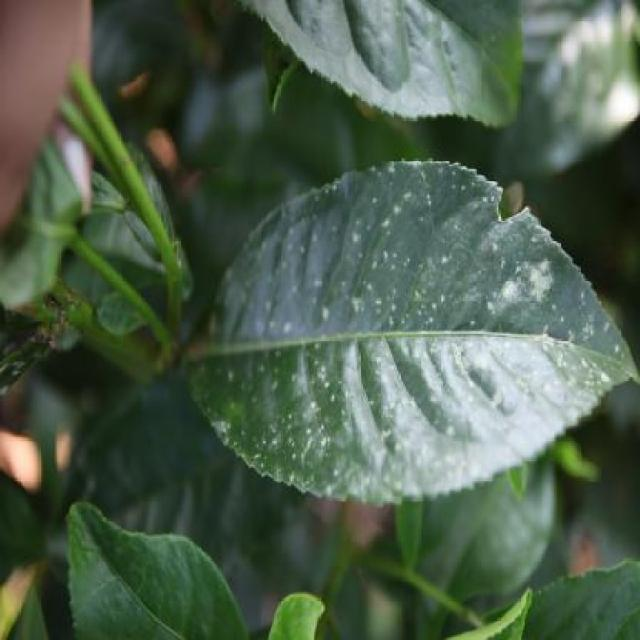White spot of tea: (143, 148, 632, 509)
